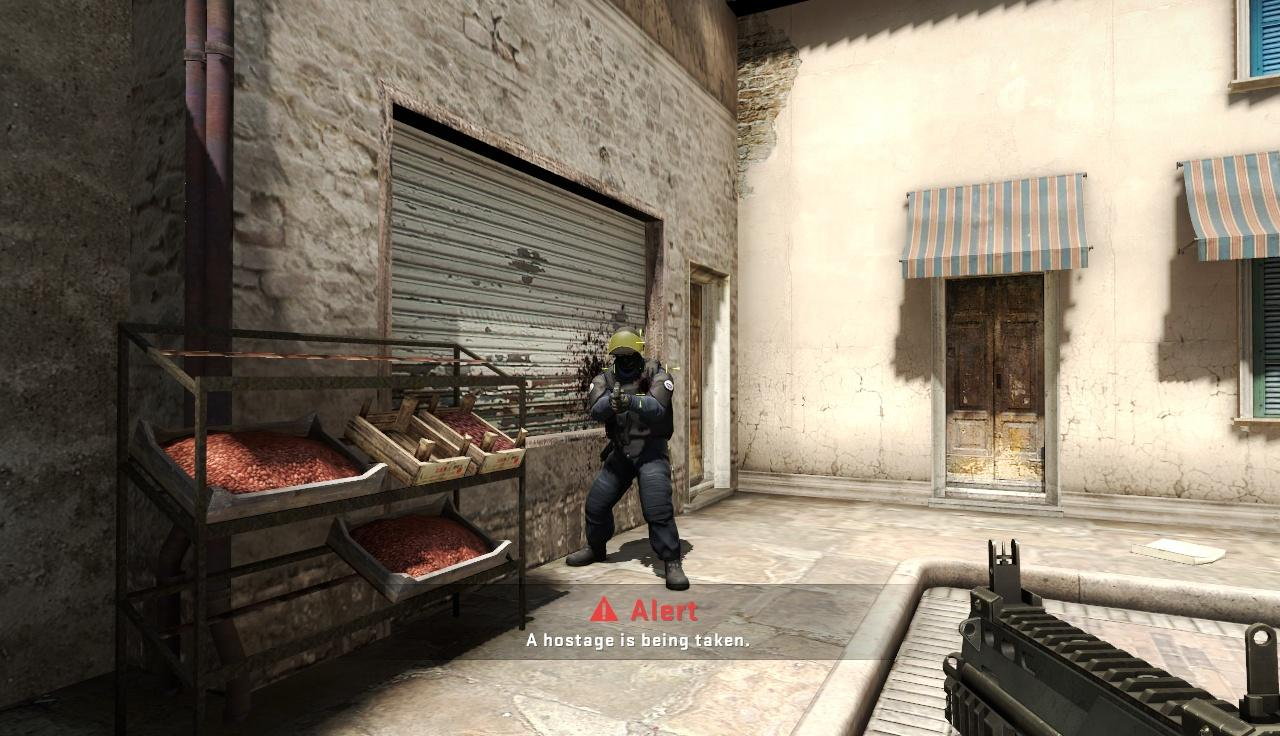ct: (587, 329, 673, 583)
cthead: (608, 329, 642, 364)
rifle: (937, 538, 1280, 736)
